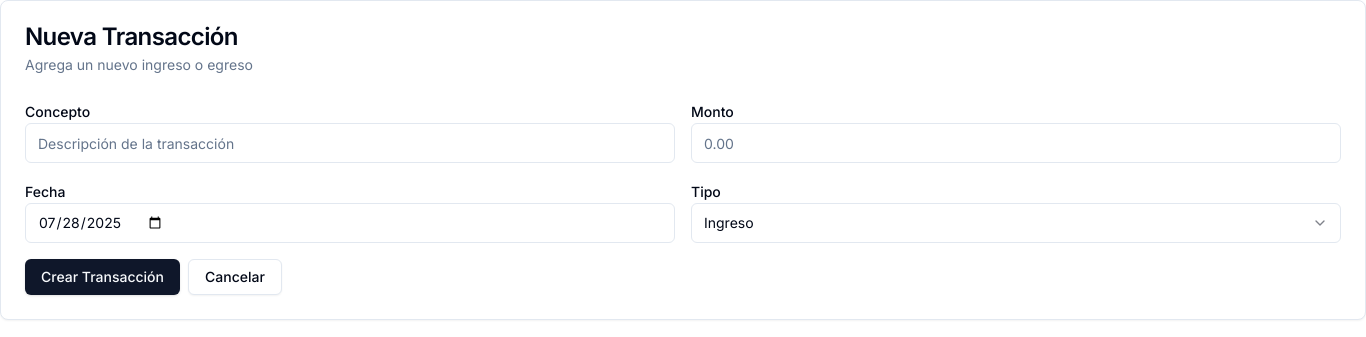
Test case: TransactionForm › debe deshabilitar el botón de envío durante la carga
// Llenar campos requeridos
Type "Test" into the field labelled "Concepto" at (350, 143), box x1=25 y1=123 x2=675 y2=163
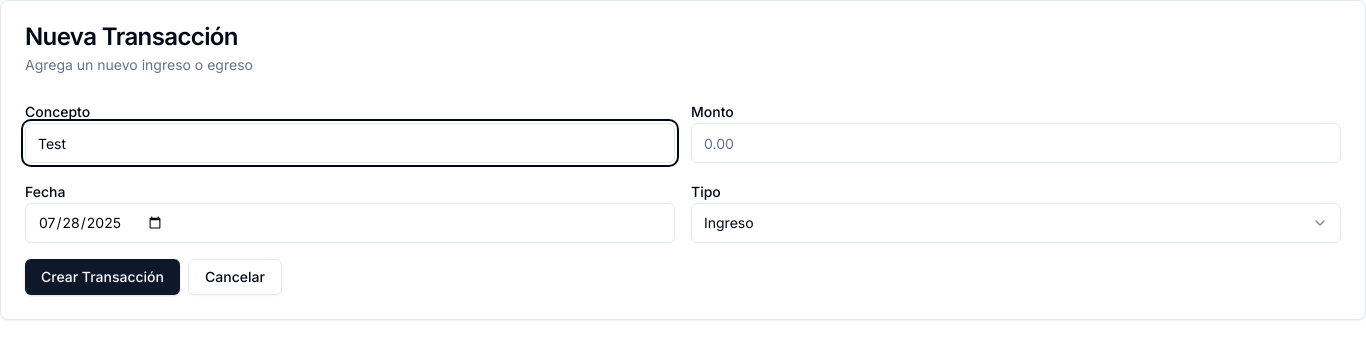
Type "100" into the number field labelled "Monto" at (1016, 143), box x1=691 y1=123 x2=1341 y2=163
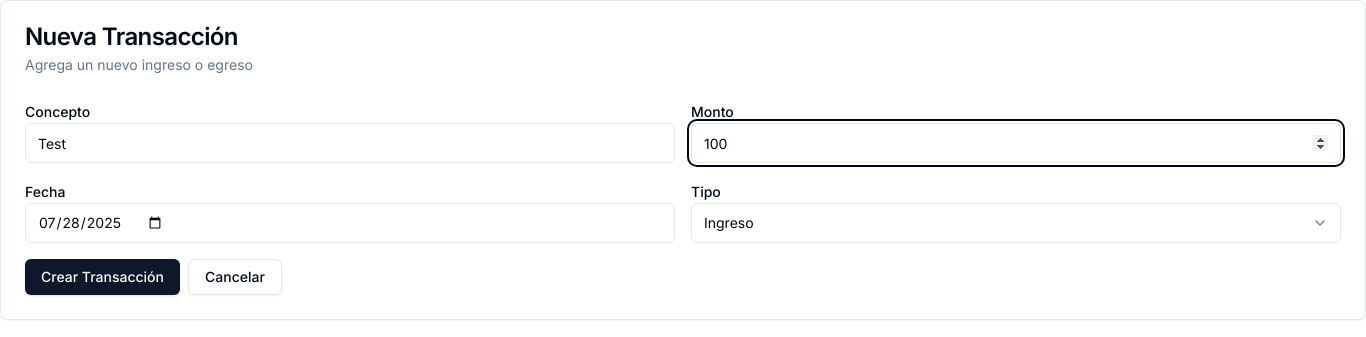
// Enviar formulario
Click the button "Crear Transacción" at (102, 277), box x1=25 y1=259 x2=180 y2=295
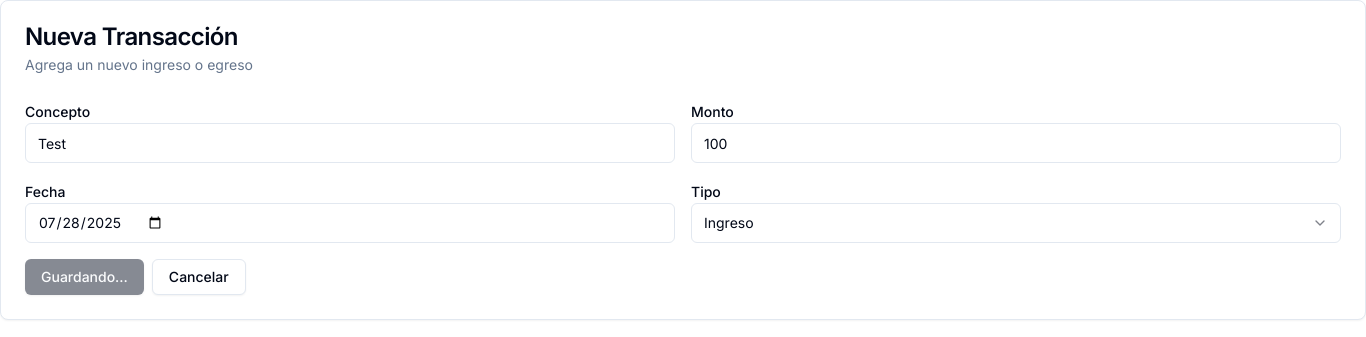
Now the button "Guardando..." is disabled, box x1=25 y1=259 x2=144 y2=295
